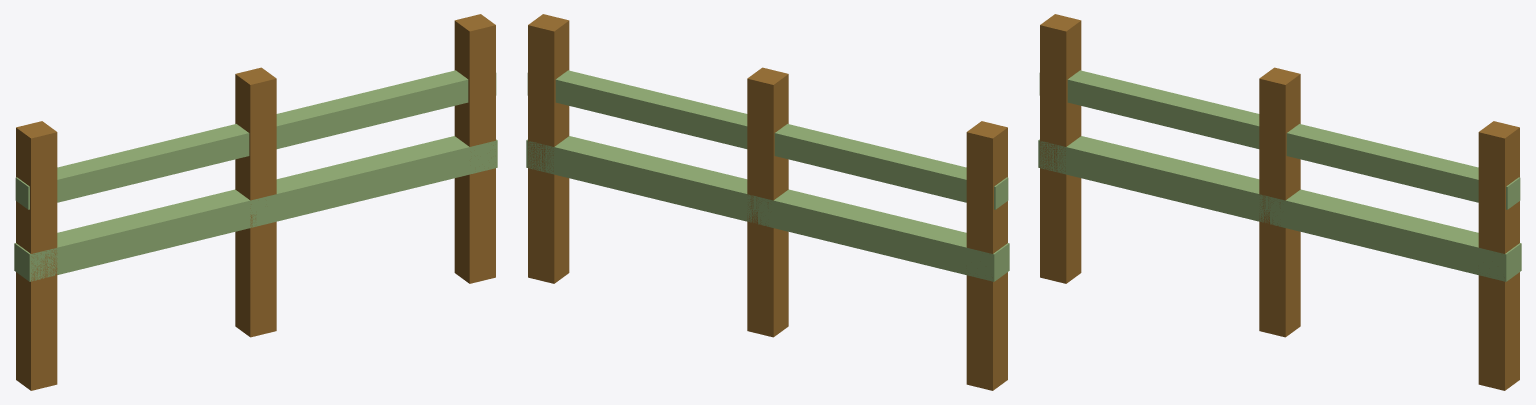
The model's file is irrigation_gate.glb.
The picture shows the model from 3 angles, left to right: view 1: azimuth 30°, elevation 25°; view 2: azimuth 150°, elevation 25°; view 3: azimuth 330°, elevation 25°; orthographic projection.
Parts seen in each view (by area): view 1: rail, rail_upper, post_-15, post_0, post_15; view 2: rail, rail_upper, post_15, post_0, post_-15; view 3: rail, rail_upper, post_-15, post_0, post_15.
Part boxes in pixels (left/top/right/bottom): rail: left=14, top=136, right=497, bottom=281; rail_upper: left=15, top=70, right=496, bottom=209; post_-15: left=16, top=121, right=57, bottom=390; post_0: left=235, top=67, right=276, bottom=337; post_15: left=454, top=14, right=495, bottom=283; rail: left=526, top=136, right=1009, bottom=281; rail_upper: left=527, top=70, right=1008, bottom=209; post_15: left=528, top=14, right=569, bottom=283; post_0: left=747, top=67, right=788, bottom=337; post_-15: left=966, top=121, right=1007, bottom=390; rail: left=1038, top=136, right=1521, bottom=281; rail_upper: left=1039, top=70, right=1520, bottom=209; post_-15: left=1040, top=14, right=1081, bottom=283; post_0: left=1259, top=67, right=1300, bottom=337; post_15: left=1478, top=121, right=1519, bottom=390.
Size of what is drawn, in the model's own units: 3.2 by 1.65 by 0.18.
